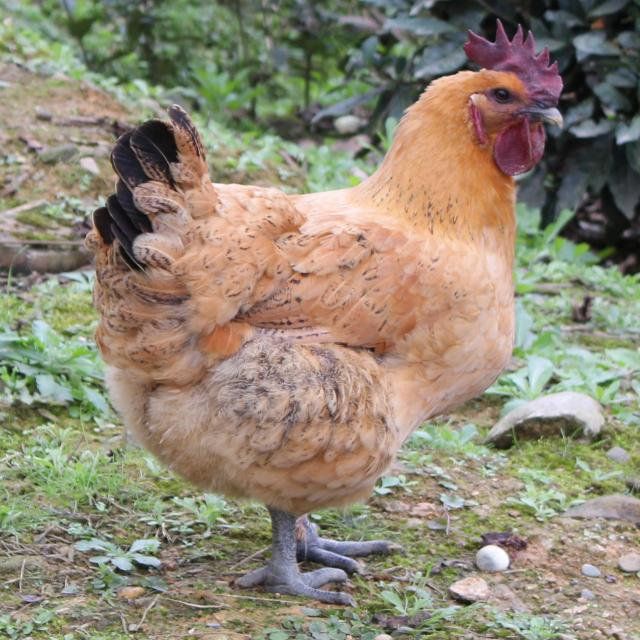hen: (23, 0, 578, 632)
